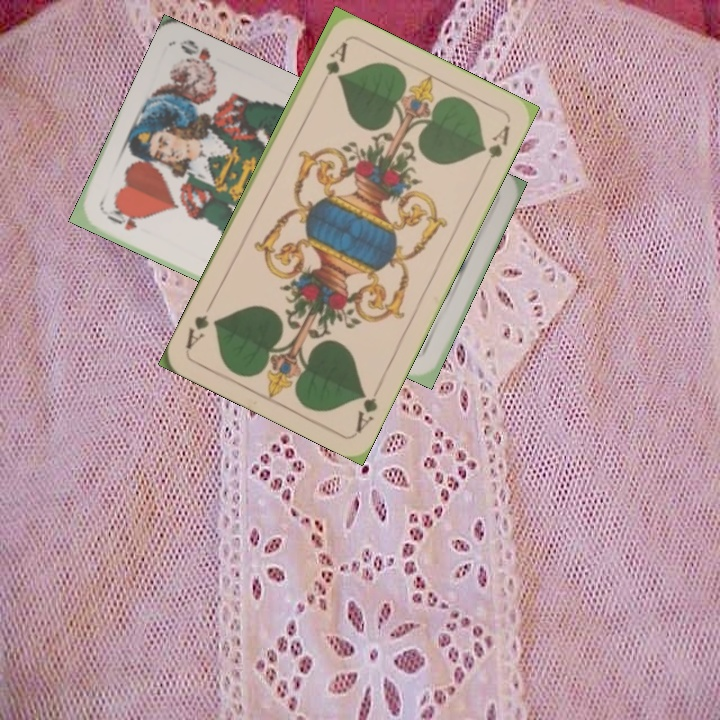GA: (315, 38, 350, 93), (352, 387, 381, 435)
HO: (103, 205, 144, 234)
